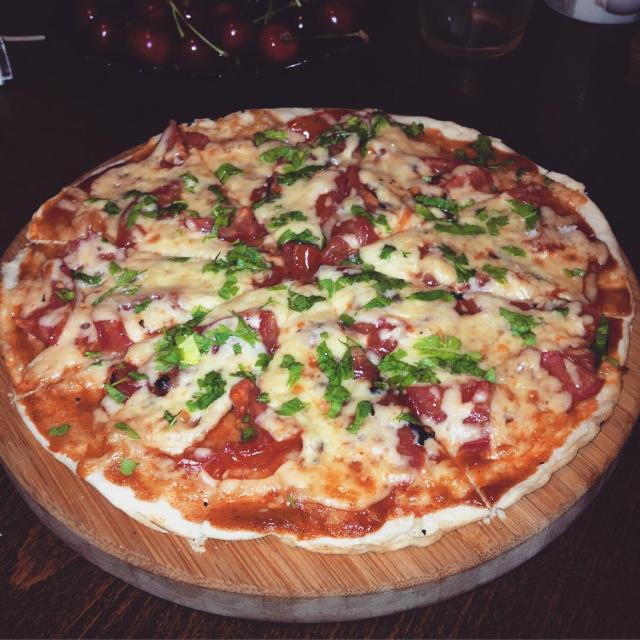basil: (315, 339, 355, 418), (152, 320, 215, 370), (372, 348, 442, 388), (90, 262, 149, 308), (200, 243, 271, 276), (185, 370, 228, 413), (498, 306, 540, 347), (437, 242, 478, 284), (343, 269, 417, 292), (448, 350, 497, 384), (590, 313, 620, 367), (504, 197, 544, 233), (414, 191, 476, 213), (226, 308, 260, 347), (202, 206, 236, 244), (285, 286, 330, 314), (413, 333, 461, 358), (347, 396, 376, 437), (275, 164, 329, 186), (345, 112, 369, 160), (354, 291, 397, 317), (278, 353, 306, 389), (144, 200, 189, 221), (311, 124, 346, 150), (214, 269, 241, 302), (248, 183, 281, 210), (315, 275, 350, 300), (433, 221, 486, 236), (278, 227, 321, 245), (212, 162, 244, 186), (267, 211, 309, 229), (454, 148, 487, 170), (405, 288, 455, 302), (276, 397, 310, 417), (466, 134, 495, 157), (228, 361, 258, 383), (70, 266, 102, 286), (208, 323, 235, 346), (351, 204, 376, 228), (484, 214, 510, 237), (114, 421, 143, 441), (254, 126, 286, 144), (284, 148, 306, 174), (417, 354, 448, 372), (179, 171, 202, 195), (482, 263, 507, 285), (258, 146, 290, 163), (394, 409, 427, 425), (126, 201, 143, 232), (102, 384, 128, 404), (161, 406, 182, 430), (371, 112, 392, 135), (414, 202, 438, 221), (208, 184, 225, 210), (120, 456, 140, 478), (501, 244, 528, 260), (255, 350, 274, 372), (45, 423, 71, 439), (53, 286, 76, 304), (488, 158, 517, 172), (400, 121, 427, 136), (376, 213, 393, 234), (190, 304, 212, 318), (134, 296, 152, 313), (379, 243, 396, 260), (563, 266, 587, 278), (122, 188, 146, 200), (165, 255, 191, 265), (265, 282, 288, 293), (516, 166, 530, 184), (128, 371, 150, 382), (474, 205, 489, 221), (241, 426, 258, 440), (339, 313, 357, 326), (86, 196, 119, 203), (108, 260, 122, 274), (555, 305, 570, 318), (231, 342, 244, 356), (257, 391, 270, 404), (144, 195, 160, 205), (399, 246, 412, 258), (187, 208, 200, 220), (84, 350, 102, 358), (242, 414, 250, 422)
pizza: (0, 105, 640, 557)
tomatoes: (216, 205, 268, 242), (280, 242, 321, 282), (329, 216, 380, 246), (321, 236, 363, 266)
